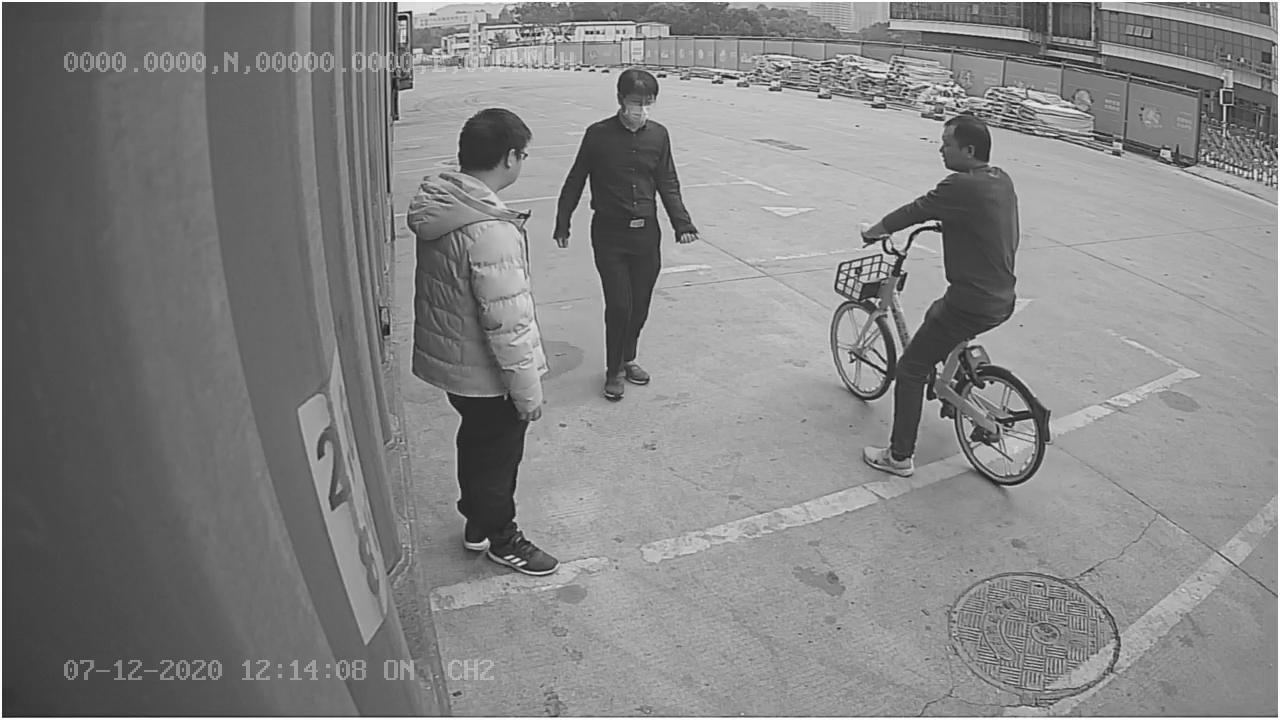person: (409, 98, 550, 573)
